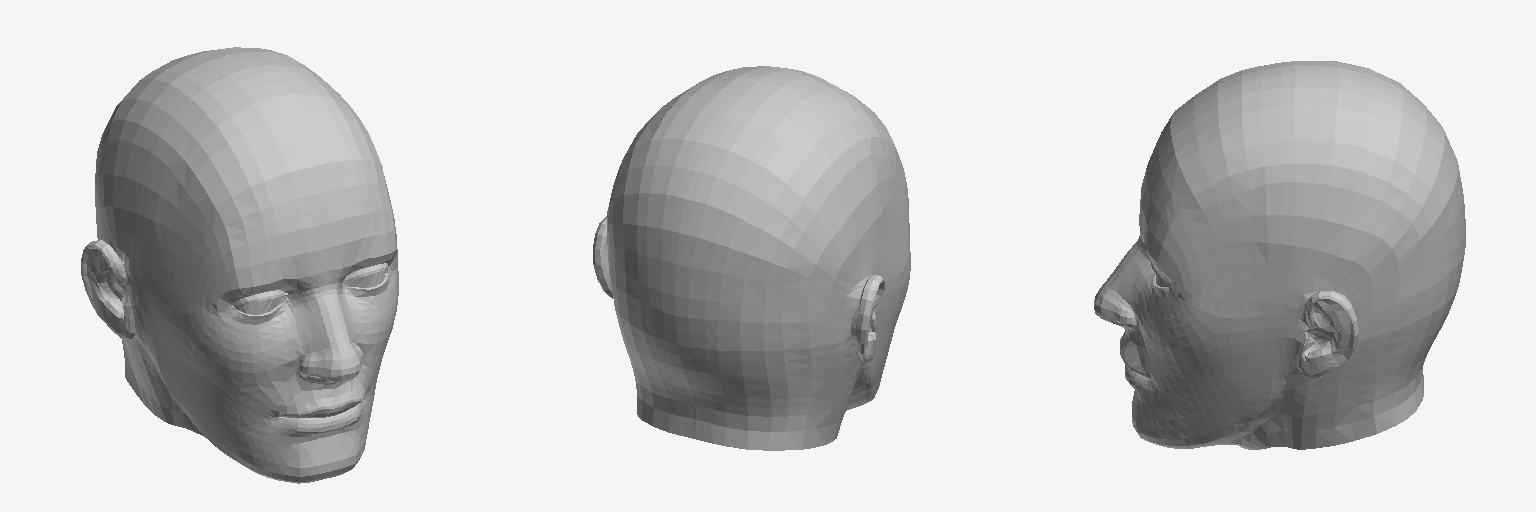
File: male head.obj
3 views of the same model, side by side, from view 1: azimuth 30°, elevation 25°; view 2: azimuth 150°, elevation 25°; view 3: azimuth 270°, elevation 25° (orthographic).
Visible parts, largest first — view 1: object0.001; view 2: object0.001; view 3: object0.001.
Part boxes in pixels (x1,y1,x2,y2): object0.001: (81, 47, 398, 483); object0.001: (593, 66, 910, 450); object0.001: (1094, 61, 1465, 449).
Size of the model in its own units: 30.6 by 38.16 by 35.42.